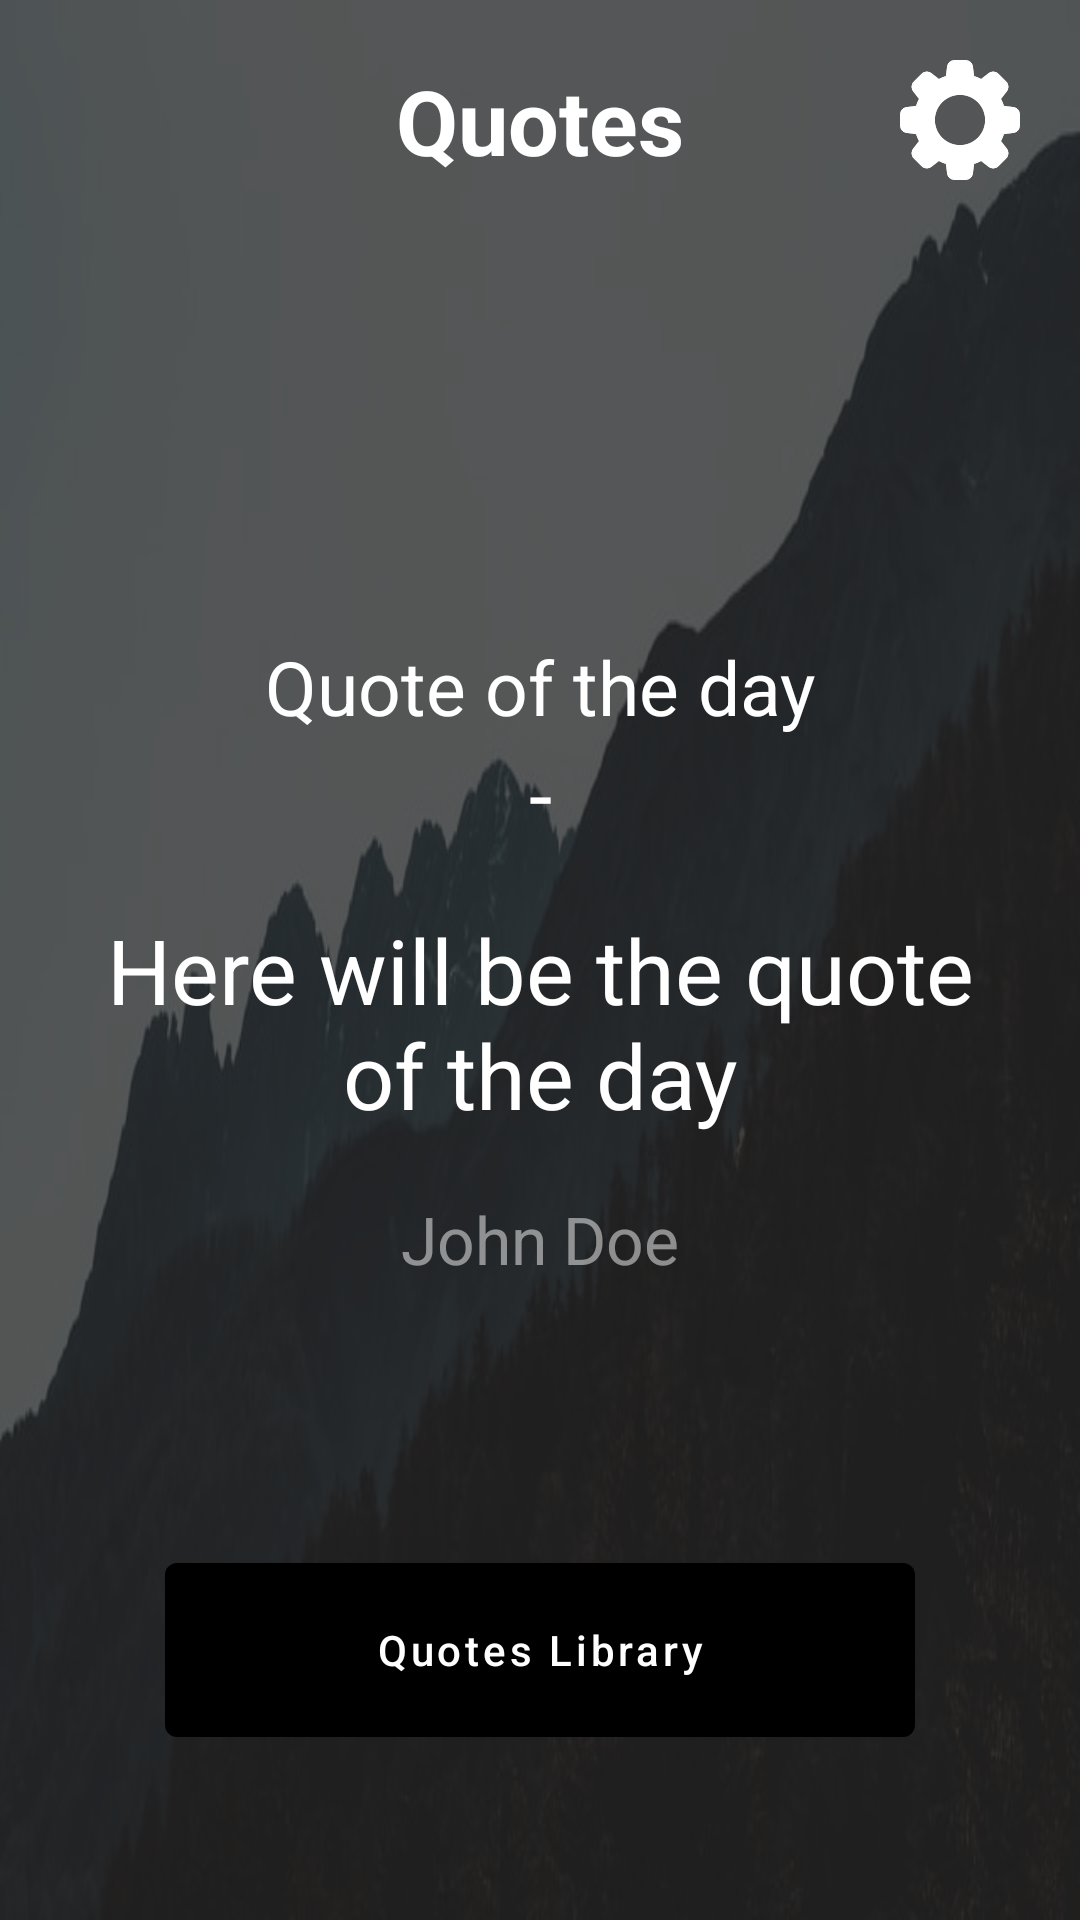

Screen size 1080x1920. Icon name, then its center in pixels as [x,y]:
settings: [960,120]
